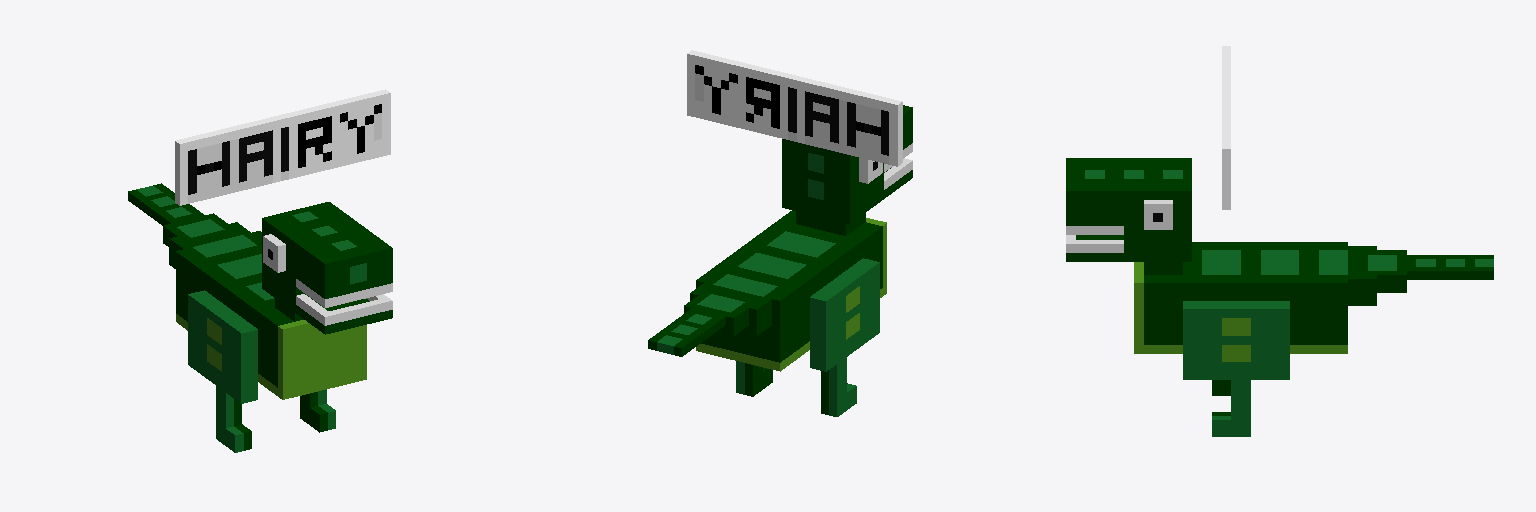
The picture shows the model from 3 angles: view 1: azimuth 30°, elevation 25°; view 2: azimuth 150°, elevation 25°; view 3: azimuth 270°, elevation 25°; orthographic projection.
Visible parts, largest first — view 1: Matrix_38; view 2: Matrix_38; view 3: Matrix_38.
Part boxes in pixels (x1,y1,x2,y2): Matrix_38: (128,89,392,452); Matrix_38: (648,50,912,416); Matrix_38: (1066,46,1493,436).
Size of the model in its own units: 25 by 36 by 44.
1 materials, 1 textured.